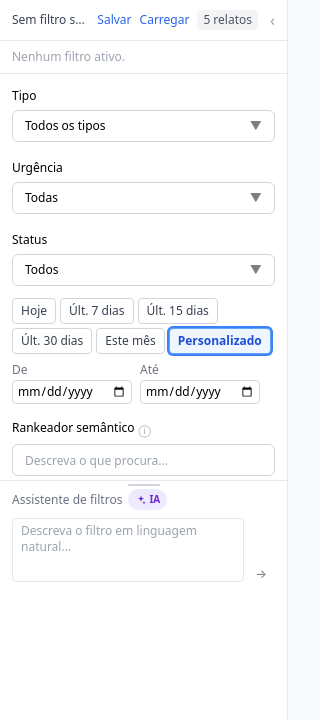
Scenario: FilterPanel › Load dropdown shows error message when listError is true
This screenshot has width=320, height=720.
Step 1. Click the button "Carregar" → (164, 20), box [140,12,189,28]
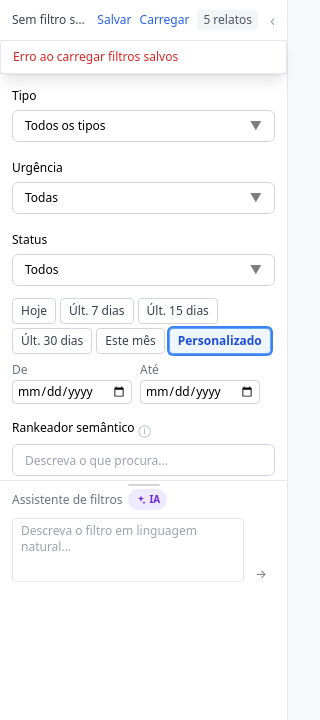
Expected: the text "Erro ao carregar filtros salvos" is shown, [13,48,178,65]
